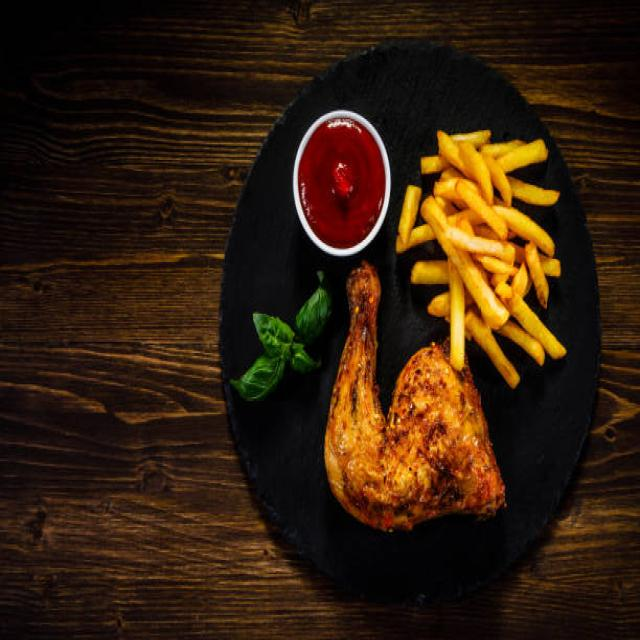Frango: (325, 262, 508, 536)
